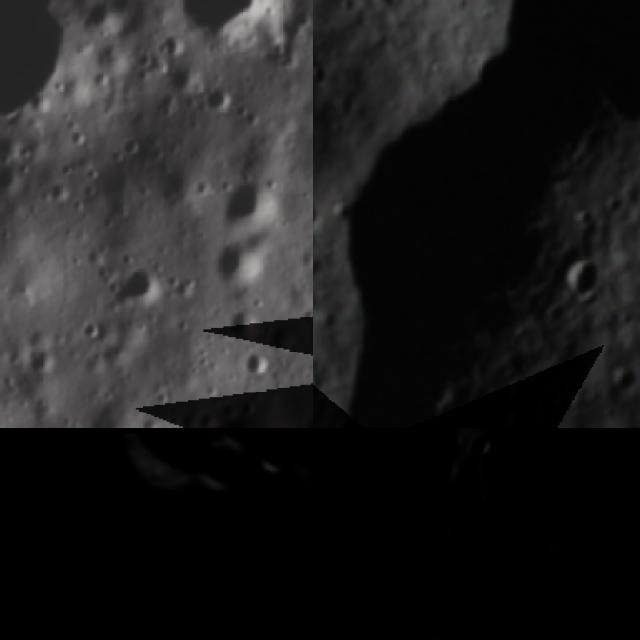crater: (313, 428, 526, 558), (89, 428, 233, 513), (540, 428, 640, 544), (0, 0, 87, 131), (313, 541, 390, 624), (186, 432, 263, 510), (177, 0, 300, 45), (388, 554, 459, 626), (257, 500, 313, 584), (214, 176, 282, 228), (244, 432, 302, 490), (170, 470, 227, 528), (556, 244, 608, 305), (20, 468, 75, 523), (196, 428, 273, 462), (70, 500, 121, 550), (110, 260, 160, 310), (206, 595, 259, 640), (248, 604, 313, 640), (215, 235, 258, 289), (0, 563, 46, 609), (603, 357, 640, 405), (476, 480, 516, 520), (0, 536, 26, 590), (462, 428, 501, 463), (242, 342, 279, 376), (313, 182, 332, 246), (502, 428, 562, 441), (0, 465, 16, 508), (392, 627, 443, 640), (218, 411, 253, 428), (70, 629, 119, 640)
